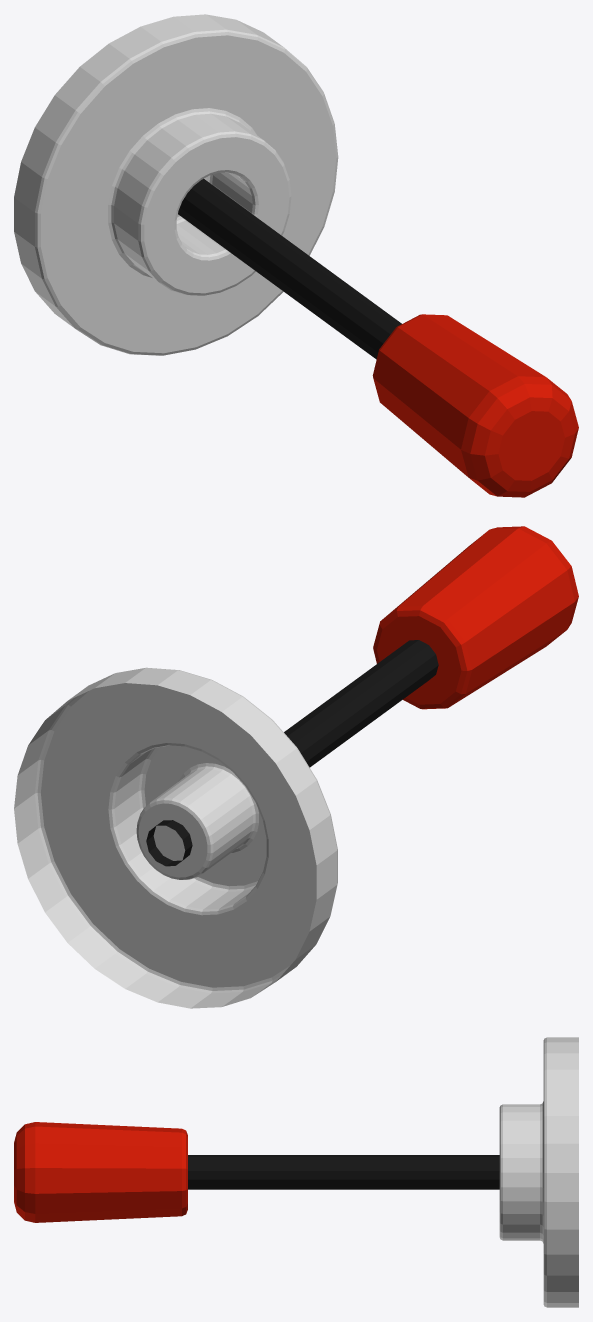
The model's file is Airplane_Lever.fbx.
3 renders of one model, top to bottom at view 1: azimuth 30°, elevation 25°; view 2: azimuth 150°, elevation 25°; view 3: azimuth 270°, elevation 25°, orthographic. The views are drawn at different scales.
Visible parts, largest first — view 1: Backplate_GEO, Lever_GEO; view 2: Backplate_GEO, Lever_GEO; view 3: Lever_GEO, Backplate_GEO.
Boxes of the visible parts, bbox=[...] form: Backplate_GEO: bbox=[14, 14, 338, 355]; Lever_GEO: bbox=[178, 178, 578, 497]; Backplate_GEO: bbox=[14, 667, 337, 1008]; Lever_GEO: bbox=[146, 526, 578, 866]; Lever_GEO: bbox=[14, 1122, 499, 1222]; Backplate_GEO: bbox=[499, 1037, 578, 1307].
Size of the model in its own units: 0.5584 by 0.5592 by 1.17.
